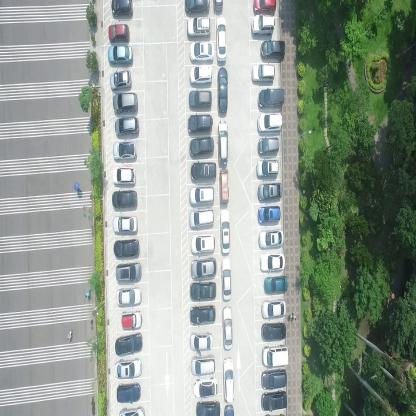car: (114, 356, 142, 379), (114, 332, 143, 354), (193, 375, 218, 400), (222, 355, 235, 403), (115, 262, 142, 285), (190, 255, 217, 278), (262, 344, 289, 367), (188, 302, 216, 324), (113, 114, 138, 138), (190, 232, 215, 256), (188, 207, 214, 230), (190, 278, 216, 301), (261, 389, 287, 412), (188, 184, 215, 206), (186, 15, 211, 38), (188, 40, 214, 62), (112, 92, 138, 114), (258, 86, 284, 108), (190, 353, 216, 375), (259, 250, 285, 272), (112, 239, 140, 259), (222, 304, 234, 350), (258, 226, 283, 248), (258, 110, 283, 132), (189, 135, 214, 157), (112, 215, 138, 236), (220, 255, 232, 300), (108, 68, 131, 91), (188, 64, 212, 86), (112, 164, 136, 186), (217, 64, 228, 112), (217, 116, 228, 164), (262, 368, 286, 390), (116, 287, 141, 308), (116, 382, 141, 403), (107, 45, 133, 65), (112, 140, 138, 160), (260, 38, 286, 58), (111, 190, 137, 210), (216, 14, 227, 61), (219, 207, 230, 253), (252, 13, 276, 34), (261, 298, 286, 318), (261, 321, 286, 341), (190, 161, 216, 180), (252, 61, 275, 82), (258, 203, 282, 223), (190, 330, 214, 350), (263, 275, 288, 294), (187, 114, 213, 132), (188, 88, 211, 108), (258, 180, 282, 199), (121, 309, 142, 330), (107, 23, 130, 42), (258, 135, 280, 154), (257, 158, 280, 176), (111, 0, 133, 17), (219, 168, 229, 204), (196, 400, 220, 415), (252, 0, 276, 14), (185, 0, 210, 13), (119, 405, 145, 415), (213, 0, 224, 12)
